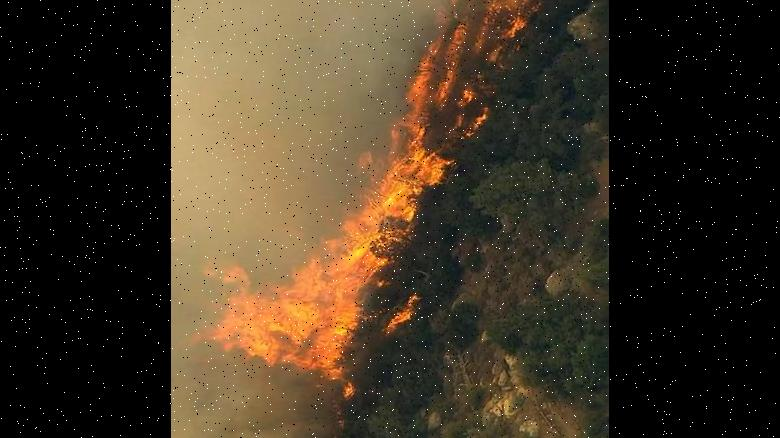fire: (189, 0, 606, 388)
